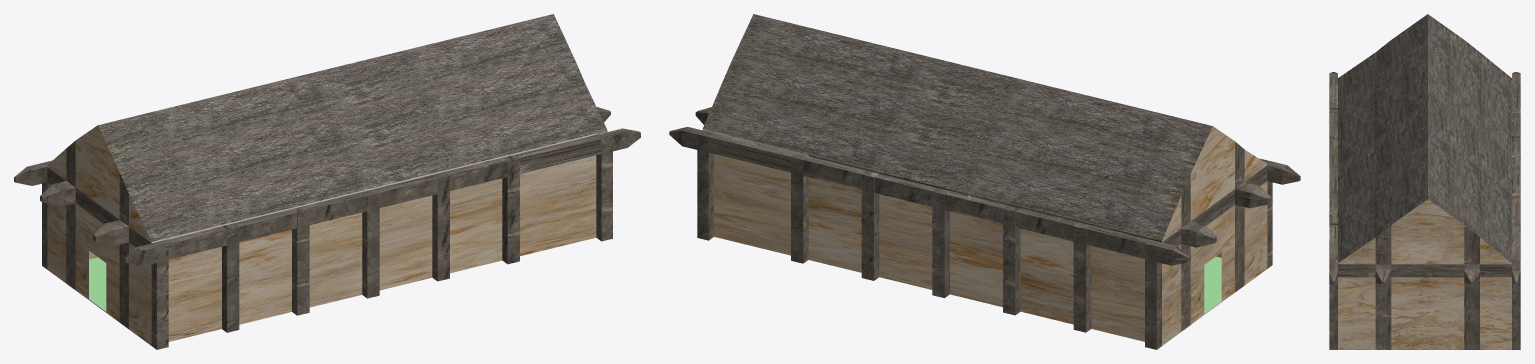
File: medium_house.glb
3 views of the same model, side by side, from view 1: azimuth 30°, elevation 25°; view 2: azimuth 150°, elevation 25°; view 3: azimuth 270°, elevation 25° (orthographic). The views are drawn at different scales.
Parts seen in each view (by area): view 1: Cube; view 2: Cube; view 3: Cube.
Boxes of the visible parts, x1,y1,x2,y2 form: Cube: (14, 14, 640, 349); Cube: (669, 14, 1300, 349); Cube: (1329, 14, 1520, 349).
Size of the model in its own units: 34.63 by 11.64 by 13.38.
Materials: 5 (3 with a texture image).
